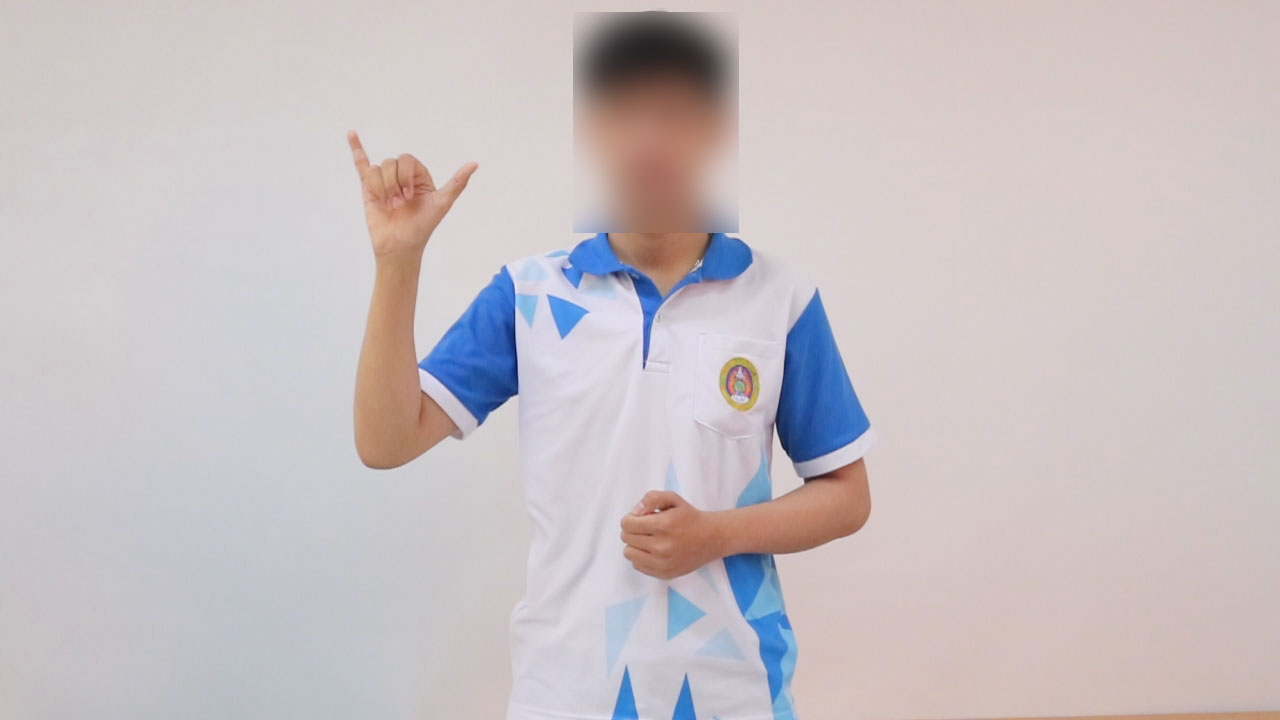yor: (341, 126, 481, 263)
